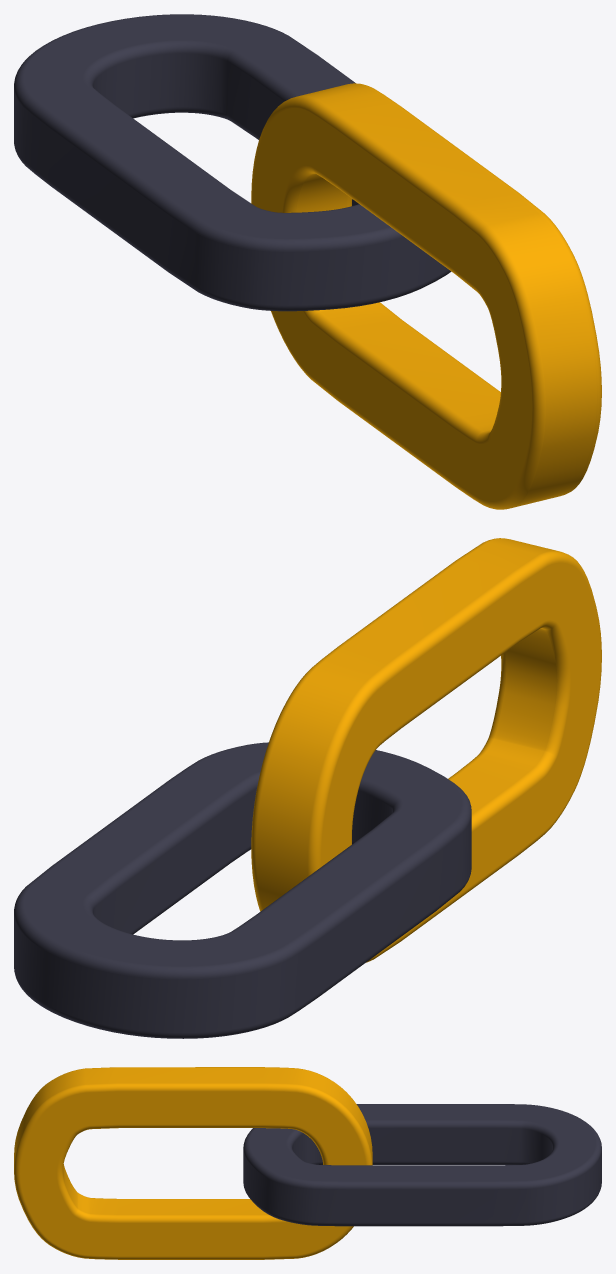
Rendered from chain.gltf.
The picture shows the model from 3 angles, top to bottom: view 1: azimuth 30°, elevation 25°; view 2: azimuth 150°, elevation 25°; view 3: azimuth 270°, elevation 25°; orthographic projection. The views are drawn at different scales.
Parts seen in each view (by area): view 1: Sweep.1, Sweep; view 2: Sweep, Sweep.1; view 3: Sweep.1, Sweep.
Boxes of the visible parts, x1,y1,x2,y2 form: Sweep.1: [251, 83, 601, 509]; Sweep: [14, 14, 451, 311]; Sweep: [14, 742, 471, 1038]; Sweep.1: [251, 538, 601, 962]; Sweep.1: [14, 1067, 372, 1259]; Sweep: [243, 1104, 601, 1226].
Size of the model in its own units: 1589 by 1589 by 4810.
